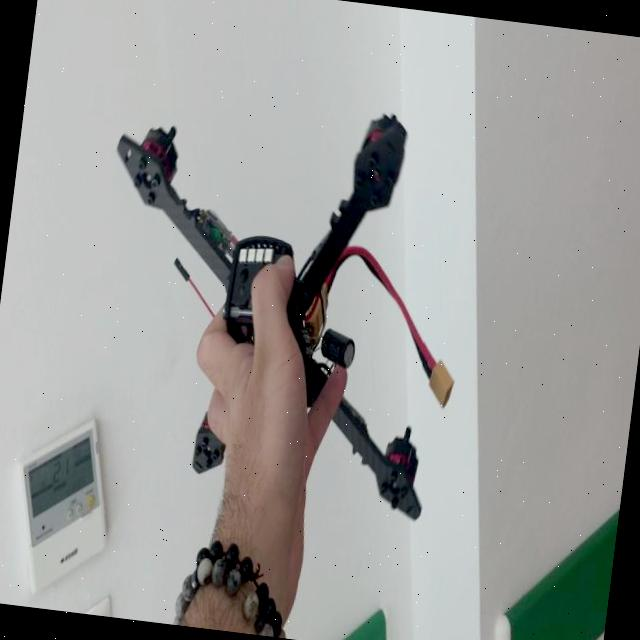drone: (58, 4, 492, 548)
